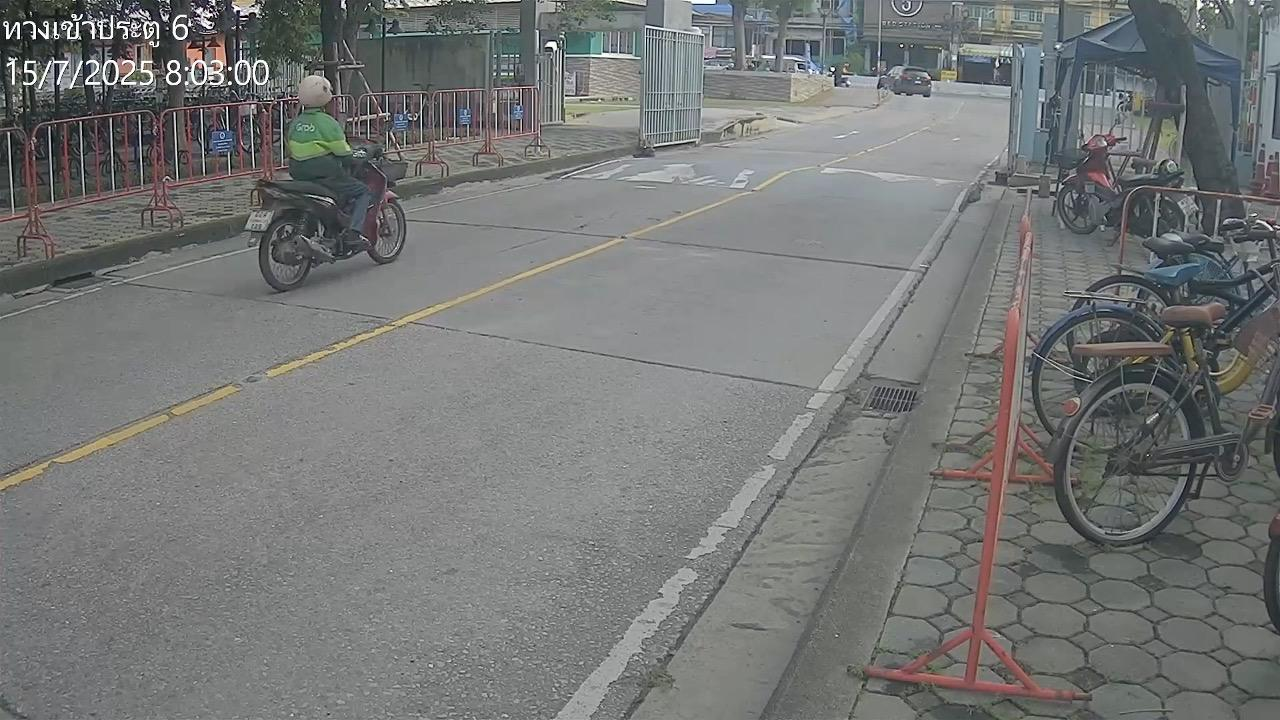With-Helmet: (296, 76, 334, 107)
